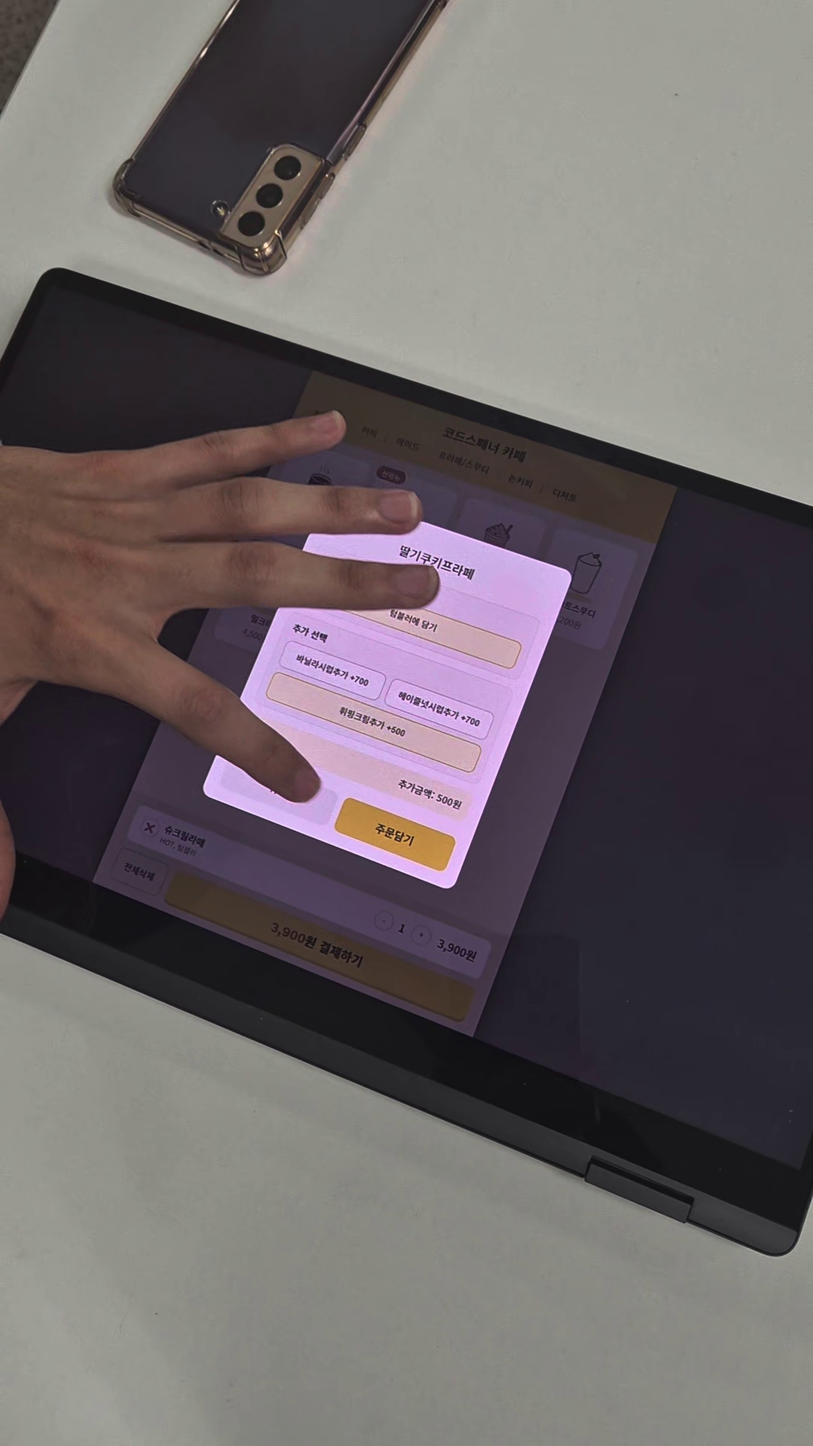action_button: (331, 795, 461, 875)
menu_name: (383, 535, 484, 588)
option_button: (261, 669, 480, 775), (383, 679, 496, 741), (277, 640, 387, 702)
popup_modal: (201, 489, 573, 889)
